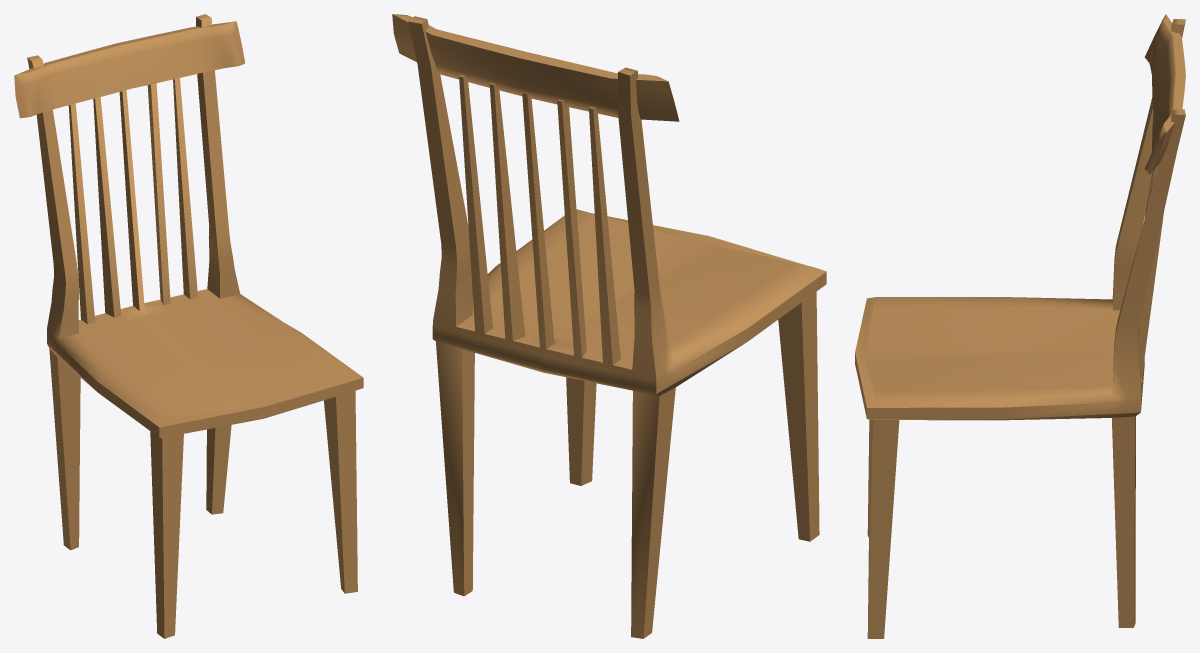
File: chair fixed.fbx
The picture shows the model from 3 angles, left to right: view 1: azimuth 30°, elevation 25°; view 2: azimuth 150°, elevation 25°; view 3: azimuth 270°, elevation 25°; orthographic projection. The views are drawn at different scales.
Parts seen in each view (by area): view 1: Cube.001; view 2: Cube.001; view 3: Cube.001.
Part boxes in pixels (left/top/right/bottom): Cube.001: left=14, top=14, right=363, bottom=638; Cube.001: left=392, top=14, right=826, bottom=638; Cube.001: left=855, top=14, right=1185, bottom=638.
Bounding box in the file's own units: 47.02 × 94.29 × 54.35.
